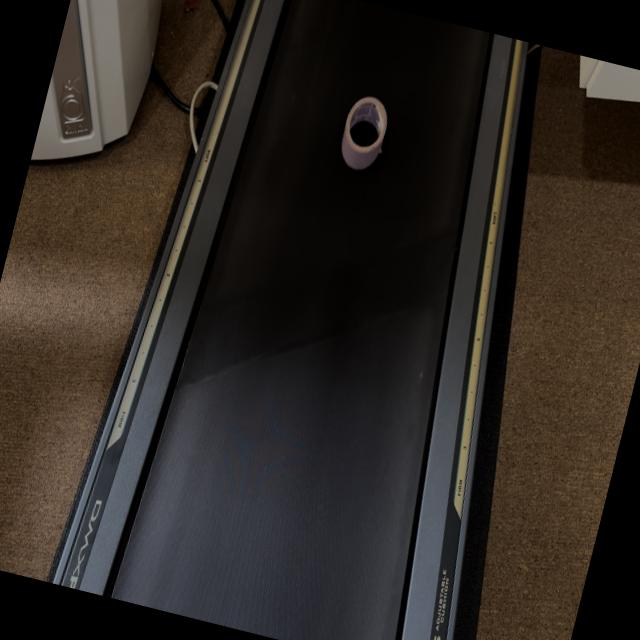Trash: (334, 88, 395, 175)
